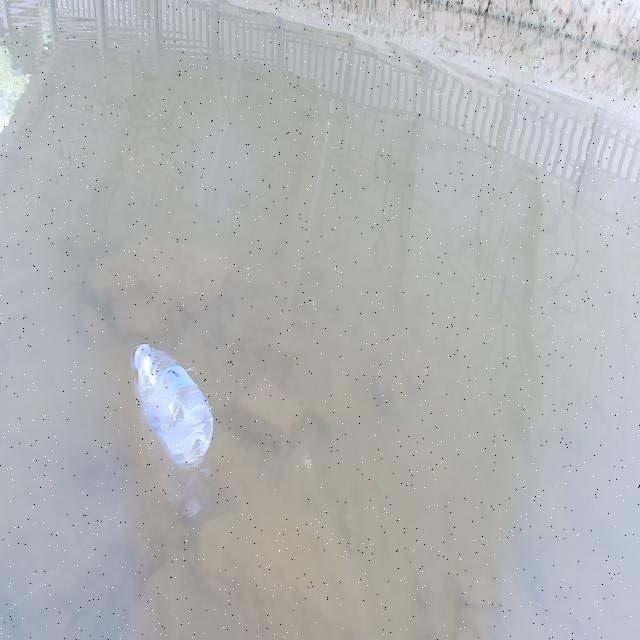Bottle: (131, 334, 216, 472)
